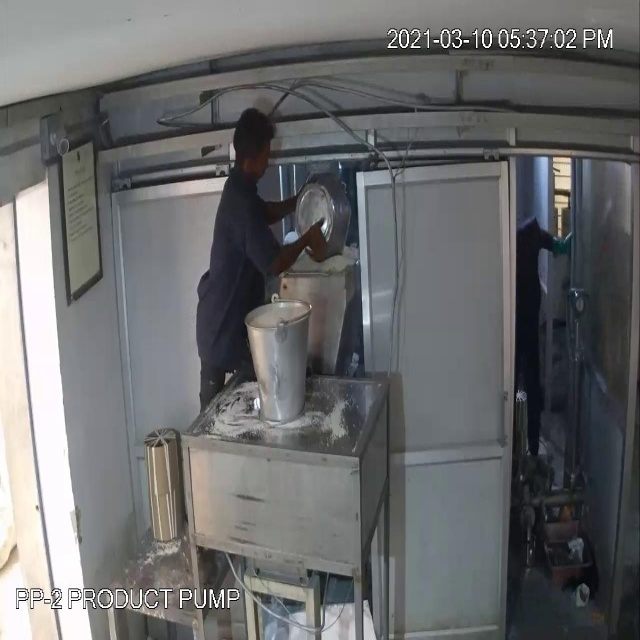Sin_guantes: (266, 214, 339, 291), (251, 168, 312, 236)
